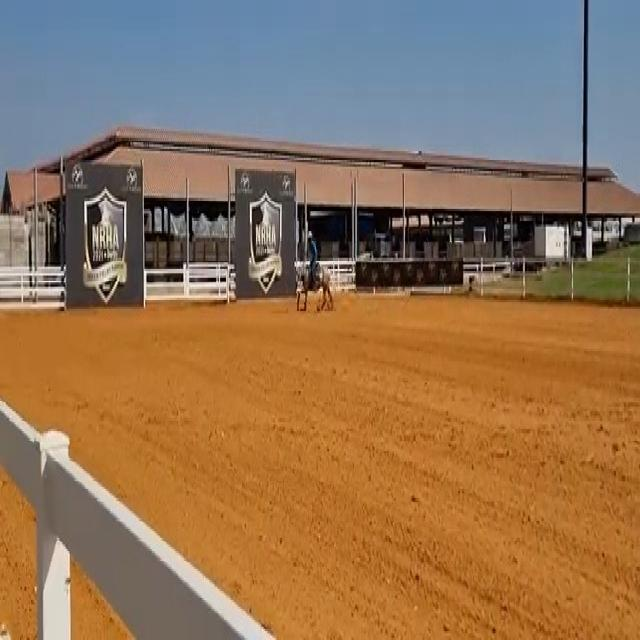horse: (293, 256, 335, 314)
